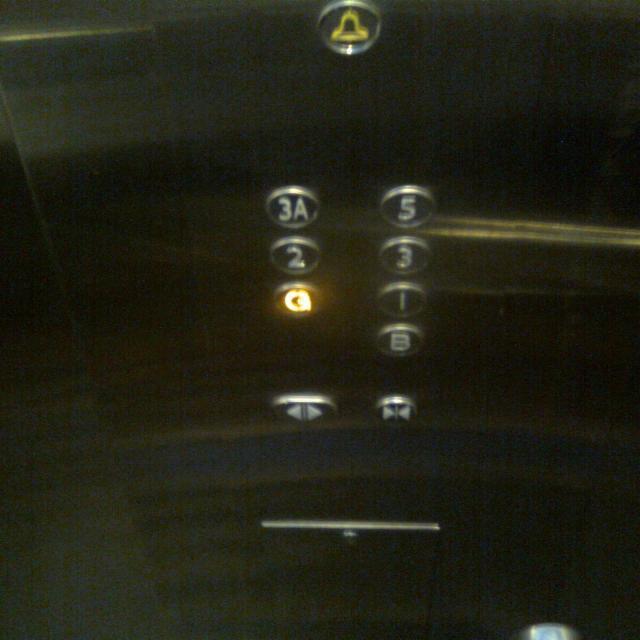1: (376, 281, 428, 318)
2: (268, 235, 324, 276)
3: (378, 236, 434, 276)
3A: (264, 184, 322, 230)
5: (377, 184, 439, 230)
B: (375, 322, 423, 358)
G: (269, 282, 326, 318)
alarm: (310, 0, 384, 56)
close: (372, 394, 418, 428)
open: (269, 392, 338, 425)
